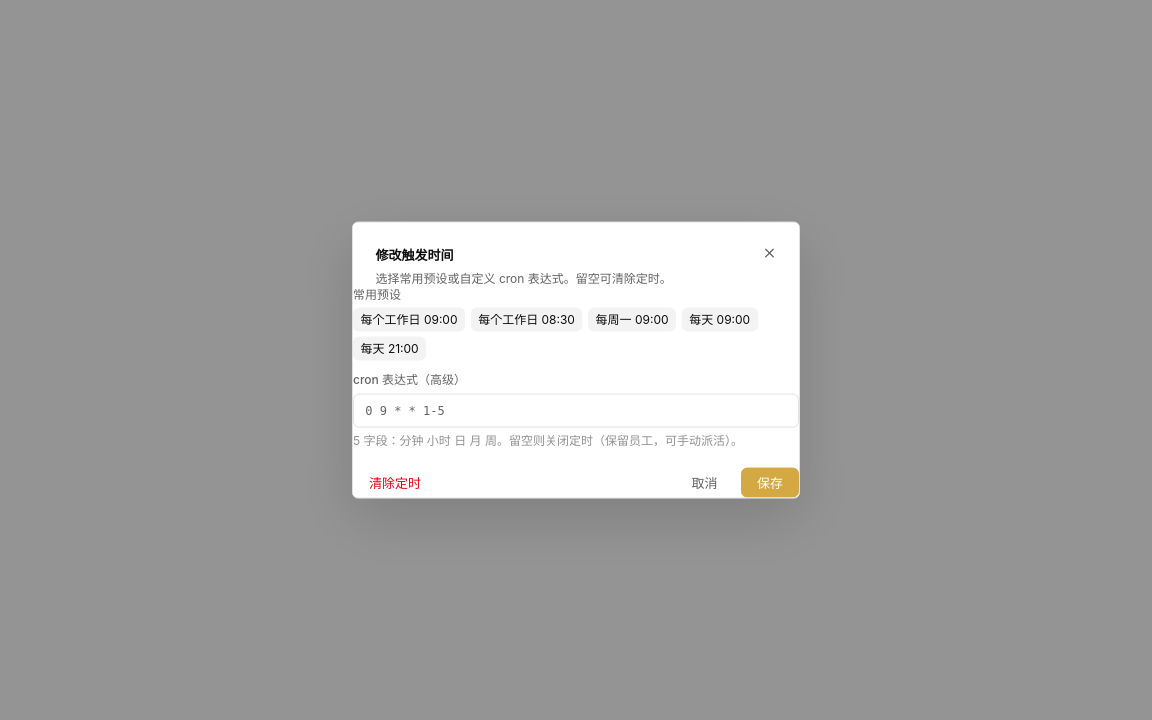
Test: CronEditDialog › clicking preset fills the input
The width and height of the screenshot is (1152, 720).
Click the button "每个工作日 09:00": (409, 320) x1=353 y1=308 x2=465 y2=331
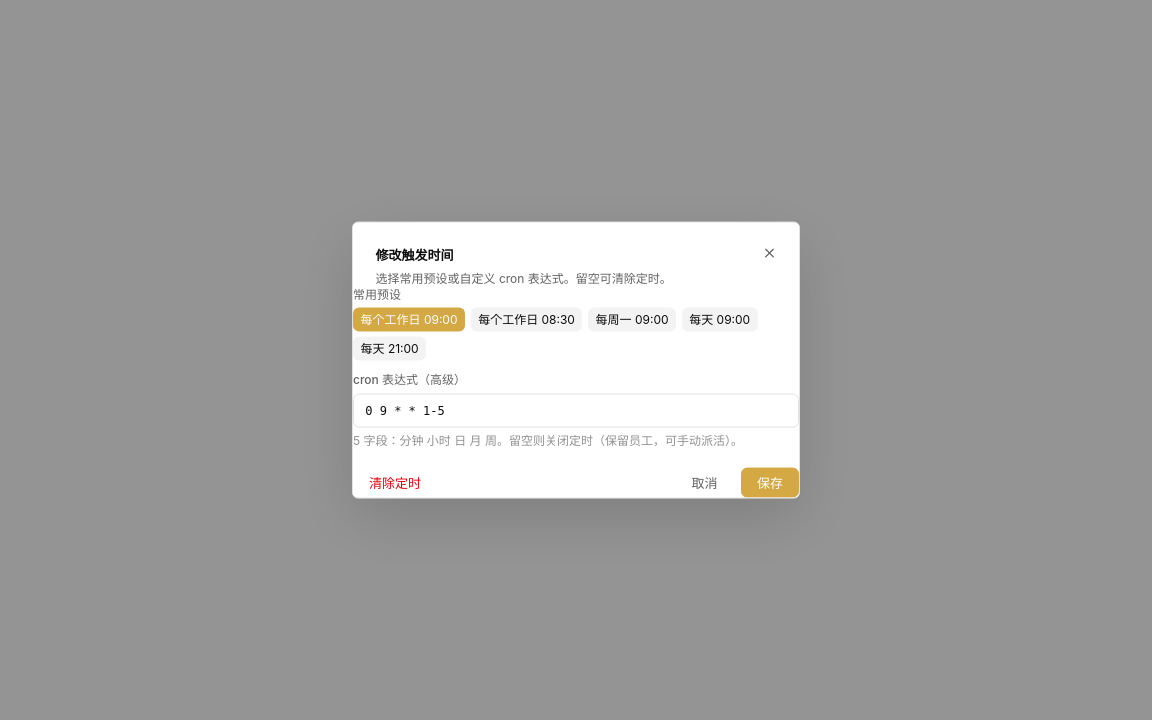
Expected: the field with placeholder "0 9 * * 1-5" holds "0 9 * * 1-5", x1=353 y1=393 x2=799 y2=427
